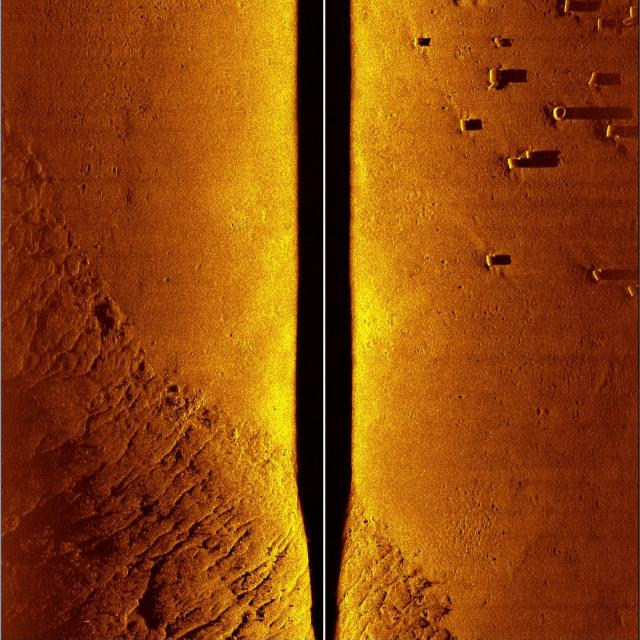other: (504, 140, 538, 178), (480, 242, 502, 276), (484, 60, 502, 96), (550, 95, 570, 125), (456, 110, 474, 138), (600, 118, 618, 145), (586, 64, 597, 85)
